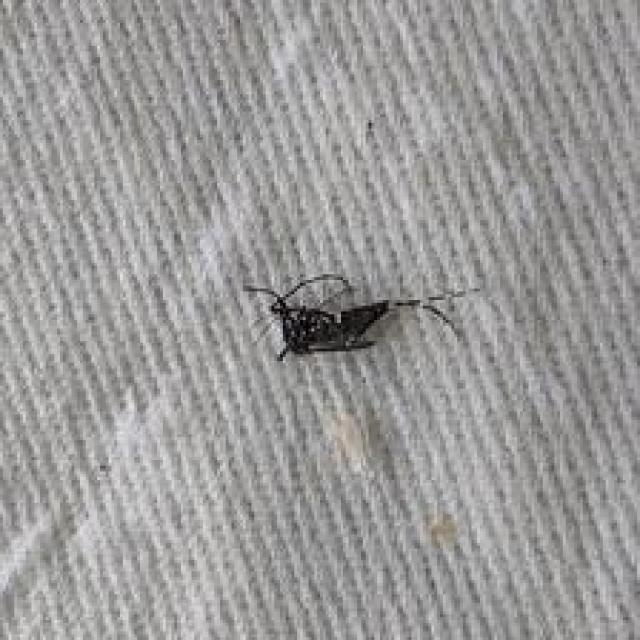Aedes albopictus: (242, 271, 478, 363)
